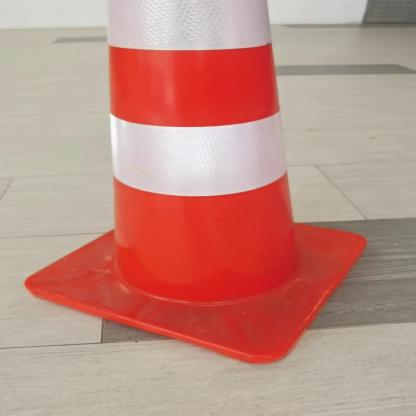cone: (2, 0, 384, 367)
